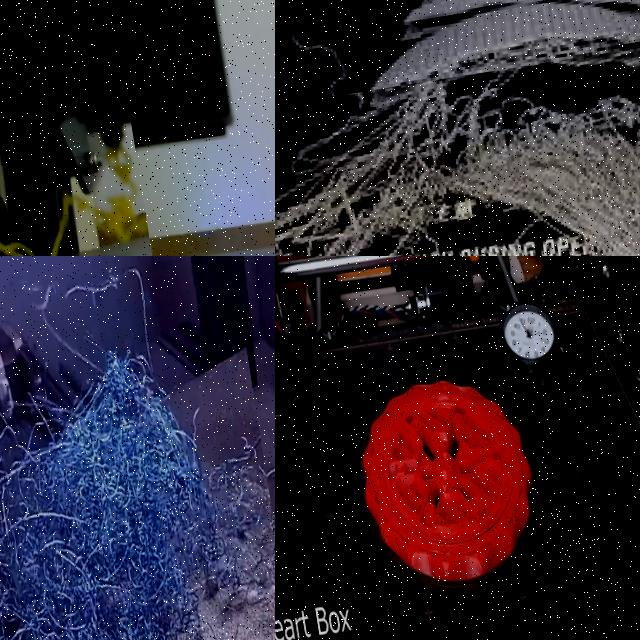spaghetti: (0, 256, 275, 640), (275, 32, 640, 256), (51, 143, 149, 256)
